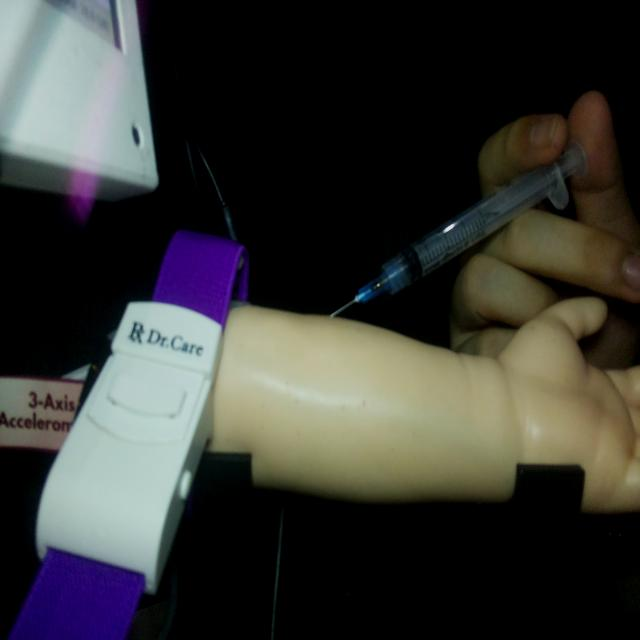25 degrees: (327, 136, 589, 320)
